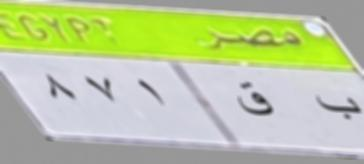1: (132, 72, 164, 107)
7: (84, 73, 117, 109)
8: (44, 70, 75, 106)
baa: (313, 83, 361, 124)
qaaf: (233, 78, 276, 126)
